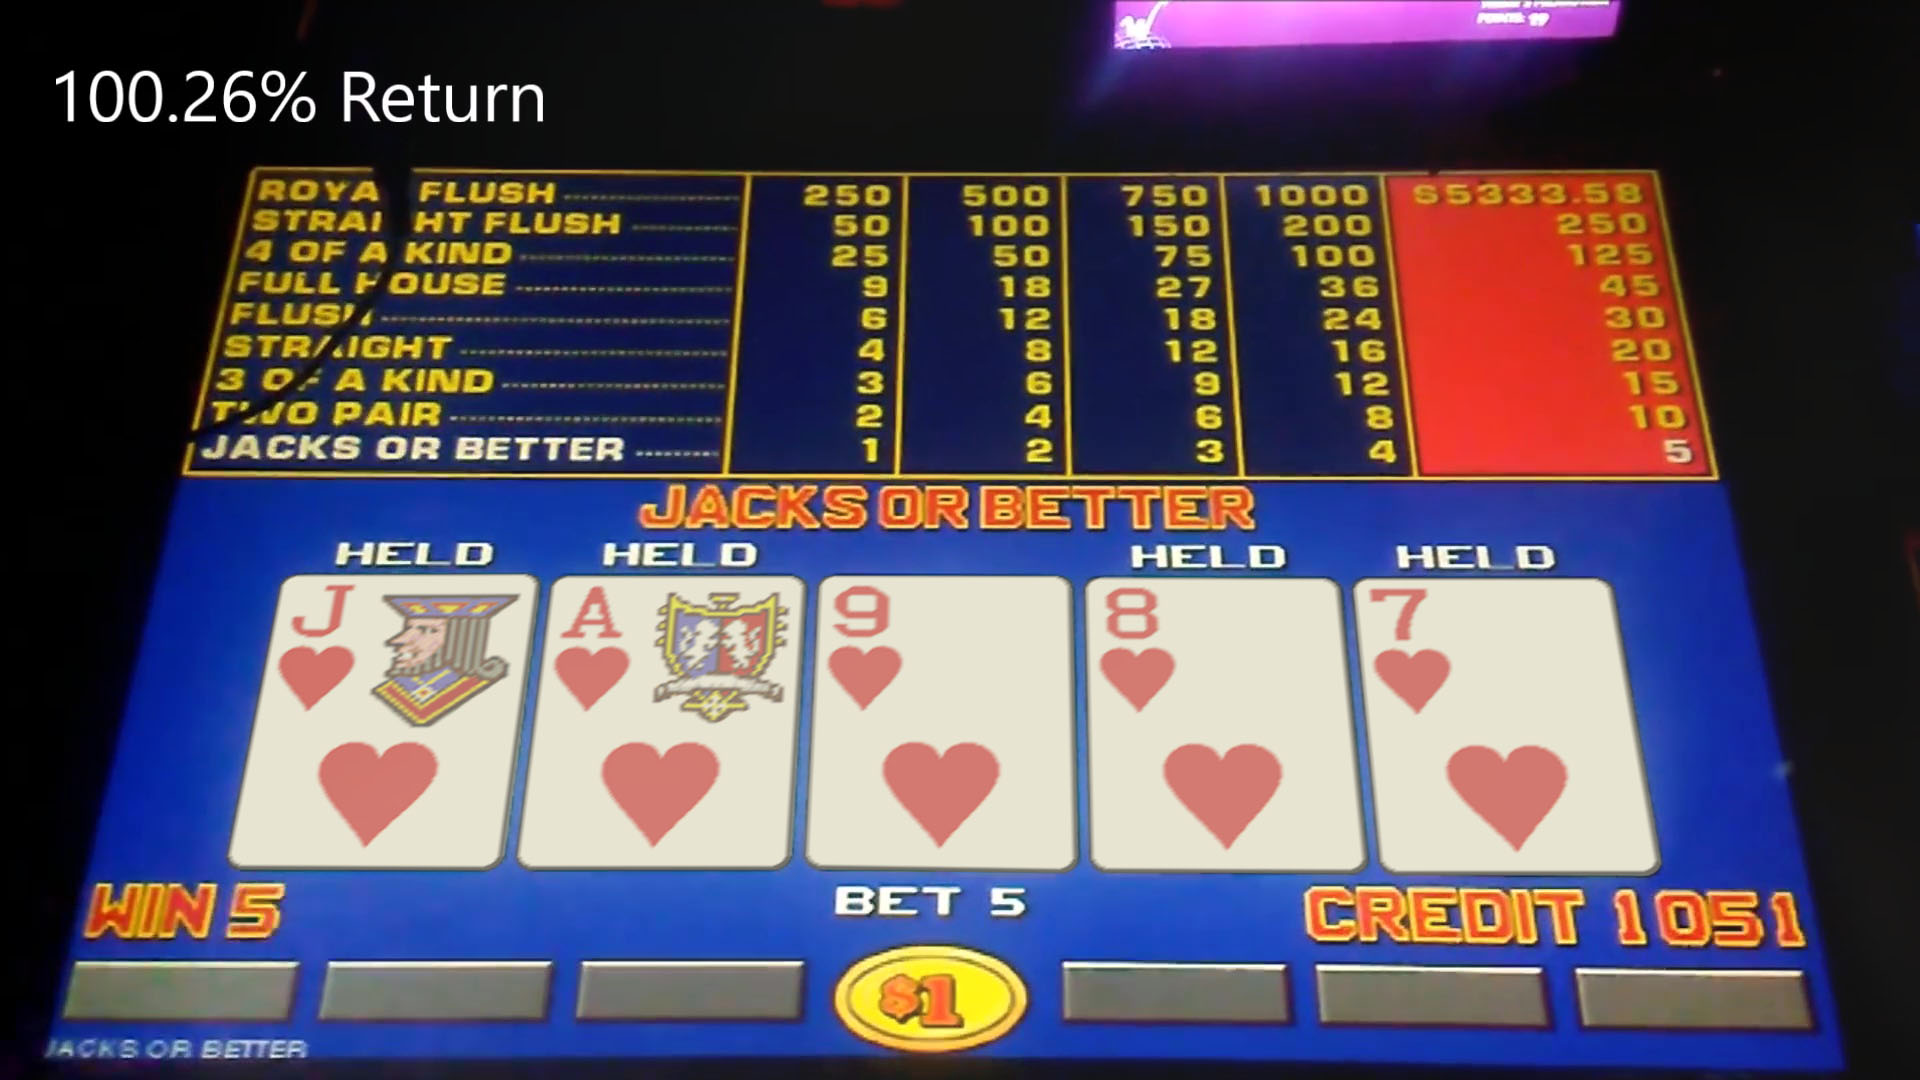H7: (1373, 582, 1625, 872)
H8: (1091, 580, 1348, 872)
H9: (811, 575, 1076, 869)
HA: (546, 575, 795, 866)
HJ: (266, 576, 506, 865)
